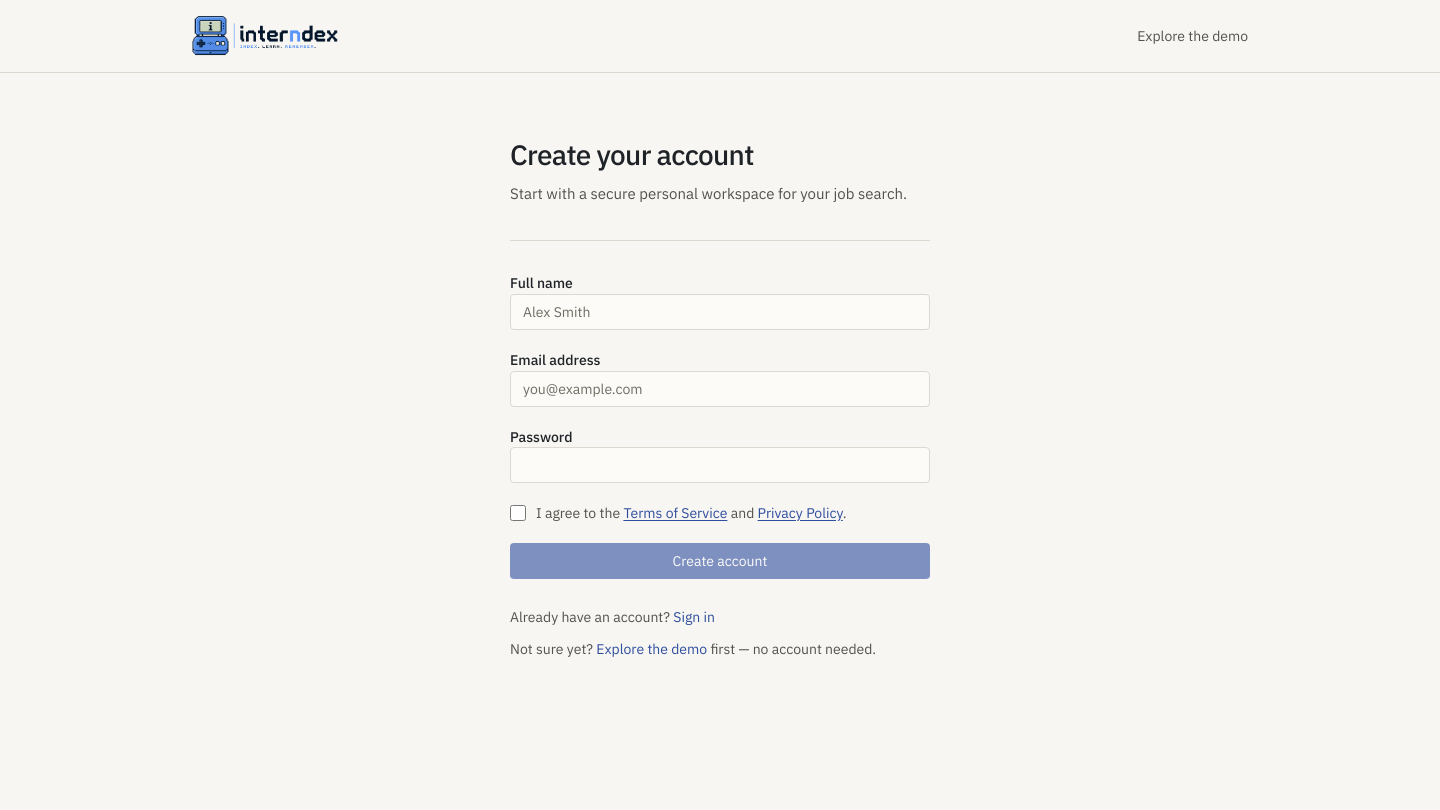
clickwrap consent on signup › starts unchecked and blocks account creation until it is checked
The image size is (1440, 810).
Expected: the button "Create account" is disabled, [510, 543, 930, 579]
Step 1. Click the checkbox labelled "I agree to the Terms of Service and Privacy Policy ." → (518, 513), box [510, 505, 526, 521]
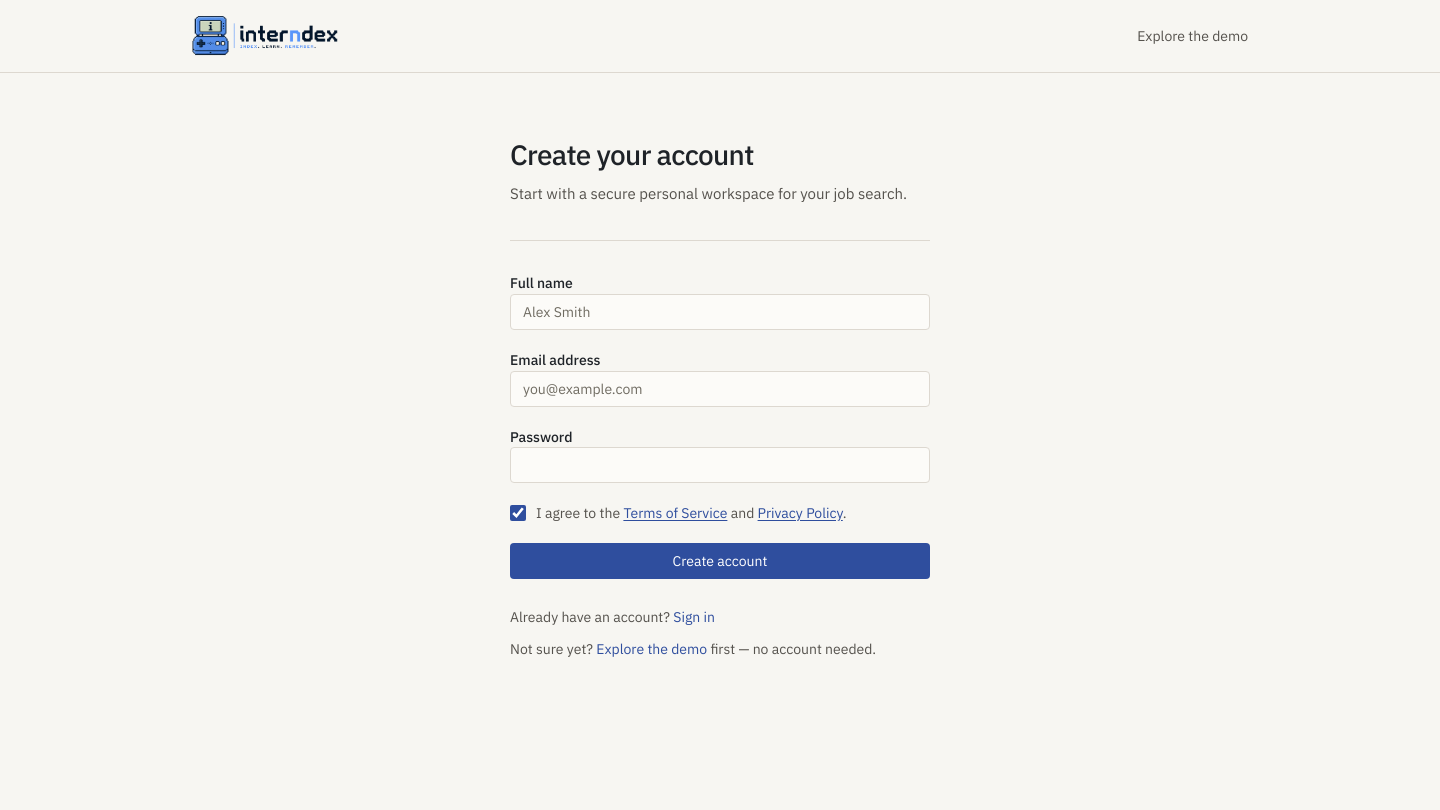
Expected: the checkbox labelled "I agree to the Terms of Service and Privacy Policy ." is checked
Expected: the button "Create account" is enabled, [510, 543, 930, 579]
Step 2. Click the checkbox labelled "I agree to the Terms of Service and Privacy Policy ." → (518, 513), box [510, 505, 526, 521]
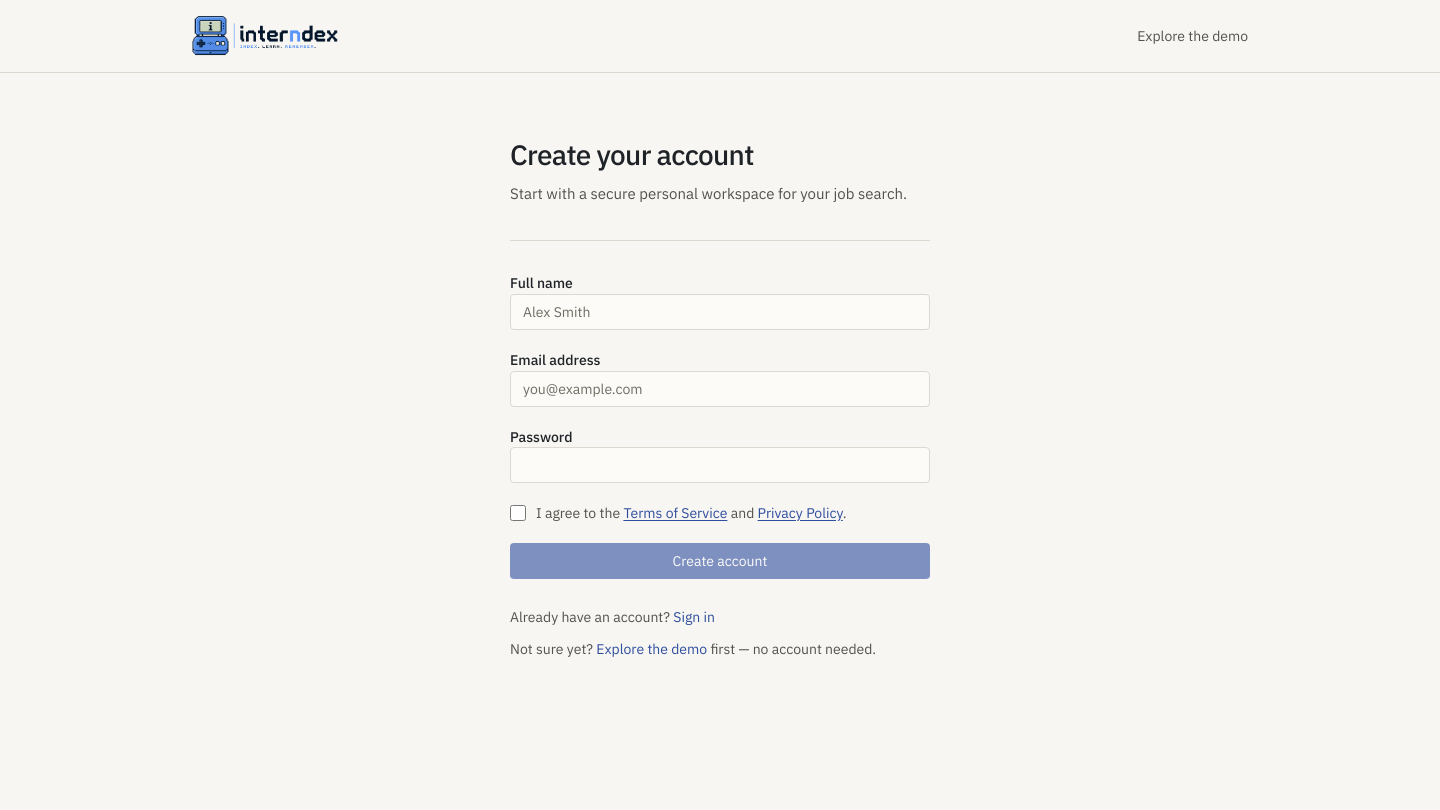
Expected: the button "Create account" is disabled, [510, 543, 930, 579]
